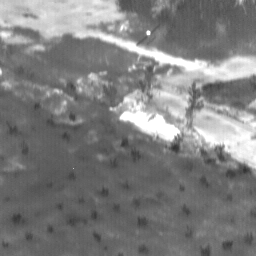aircraft: (148, 32, 150, 34)
